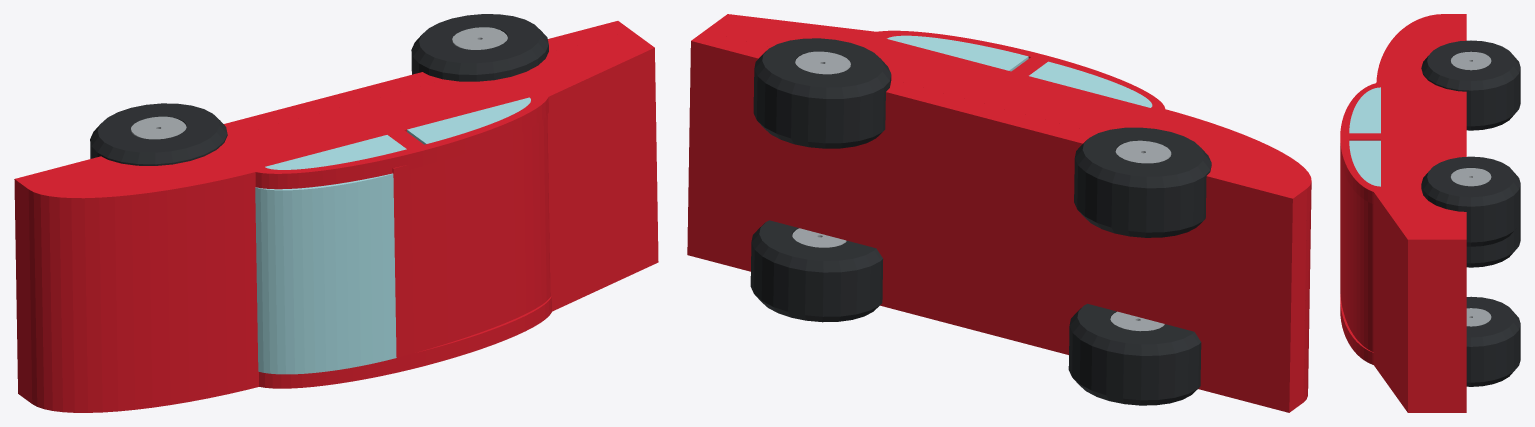
Rendered from tinker.obj.
3 renders of one model, left to right at view 1: azimuth 30°, elevation 25°; view 2: azimuth 150°, elevation 25°; view 3: azimuth 270°, elevation 25°, orthographic. The views are drawn at different scales.
Parts seen in each view (by area): view 1: group_0_15277357, group_0_11593967, group_0_2829873, group_0_10988977; view 2: group_0_15277357, group_0_2829873, group_0_11593967, group_0_10988977; view 3: group_0_15277357, group_0_2829873, group_0_11593967, group_0_10988977.
Boxes of the visible parts, x1=… form: group_0_15277357: x1=14, y1=21, x2=658, y2=412; group_0_11593967: x1=255, y1=97, x2=530, y2=374; group_0_2829873: x1=90, y1=14, x2=548, y2=165; group_0_10988977: x1=130, y1=27, x2=507, y2=139; group_0_15277357: x1=687, y1=14, x2=1311, y2=412; group_0_2829873: x1=750, y1=38, x2=1211, y2=405; group_0_11593967: x1=887, y1=35, x2=1152, y2=107; group_0_10988977: x1=792, y1=51, x2=1171, y2=331; group_0_15277357: x1=1340, y1=14, x2=1466, y2=412; group_0_2829873: x1=1421, y1=40, x2=1520, y2=386; group_0_11593967: x1=1349, y1=87, x2=1380, y2=186; group_0_10988977: x1=1451, y1=51, x2=1491, y2=326.
Size of the model in its own units: 124 by 47.51 by 40.
